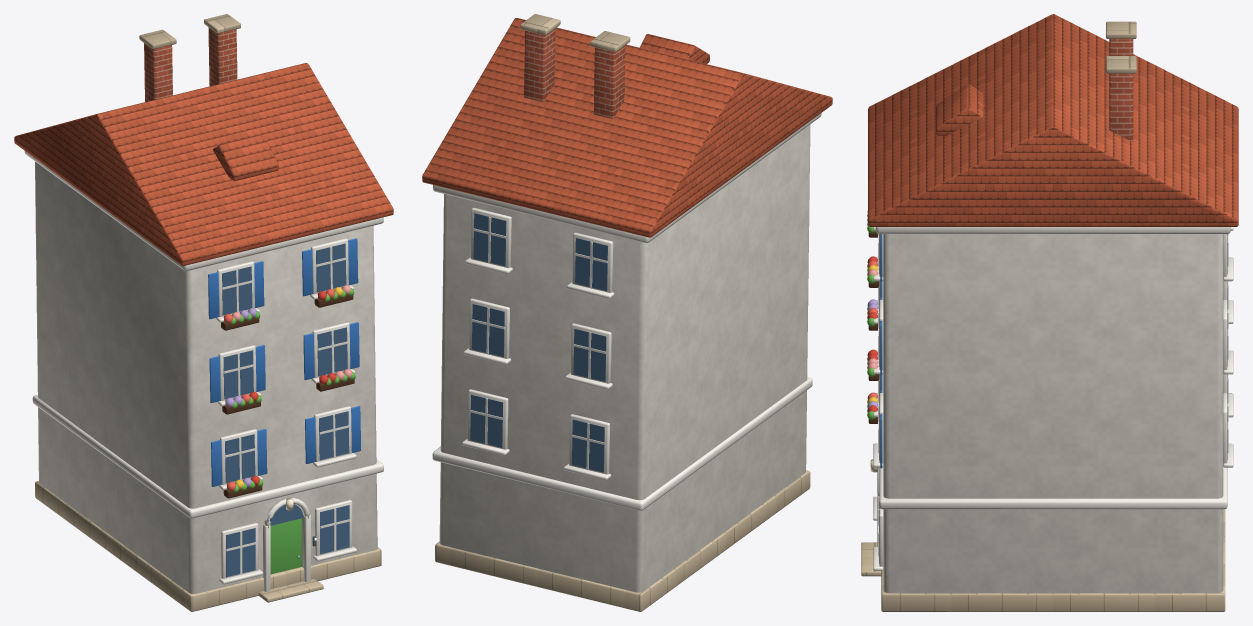
The model's file is house_i.gltf.
3 views of the same model, side by side, from view 1: azimuth 30°, elevation 25°; view 2: azimuth 150°, elevation 25°; view 3: azimuth 270°, elevation 25° (orthographic). The views are drawn at different scales.
Parts seen in each view (by area): view 1: house_i_mesh, INT_door_house_i_0; view 2: house_i_mesh; view 3: house_i_mesh.
Boxes of the visible parts, x1,y1,x2,y2 form: house_i_mesh: (14,14,393,611); INT_door_house_i_0: (270,518,301,574); house_i_mesh: (422,14,832,611); house_i_mesh: (861,14,1238,611).
Size of what is drawn, in the model's own units: 7.96 by 16.99 by 11.1.
20 materials, 4 textured.
